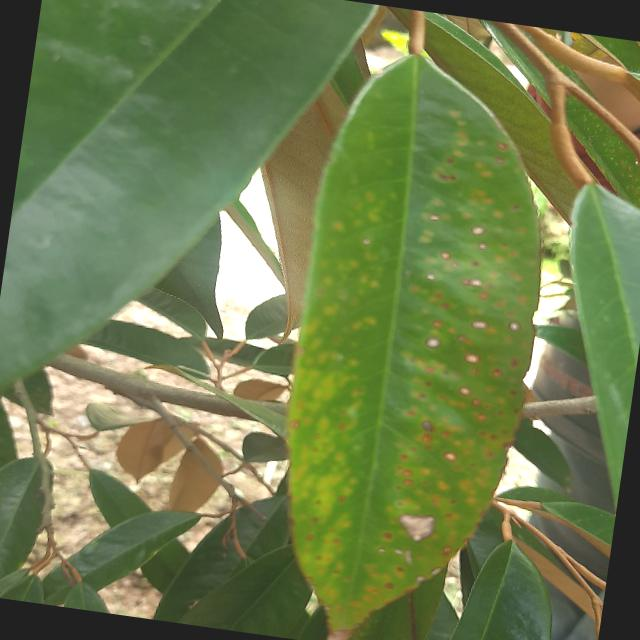Leaf Spot: (243, 39, 580, 639)
